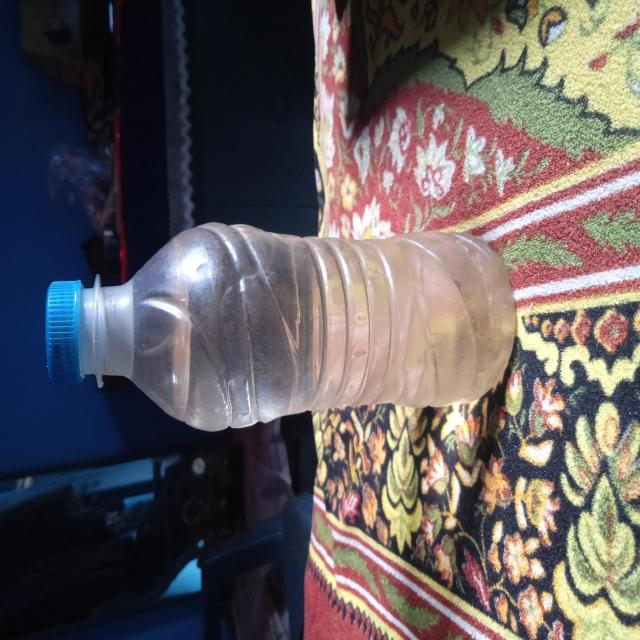bottle: (44, 217, 514, 434)
